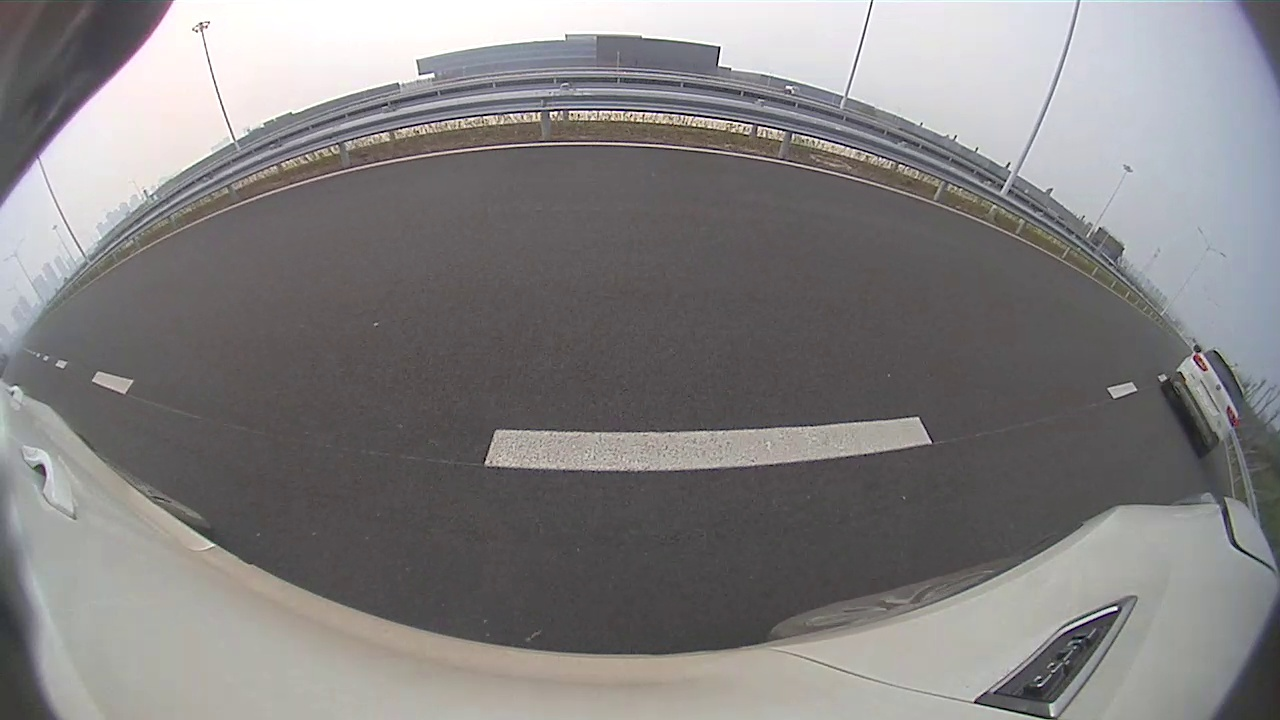car: (1165, 346, 1248, 457)
